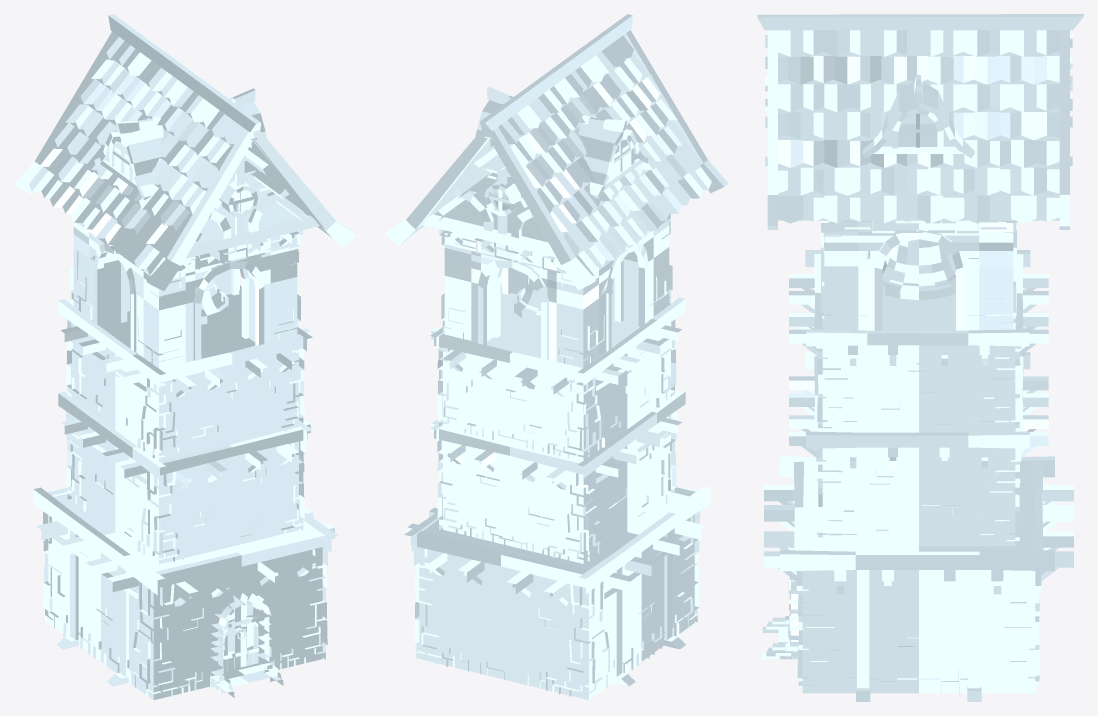
The model's file is tower.glb.
3 renders of one model, left to right at view 1: azimuth 30°, elevation 25°; view 2: azimuth 150°, elevation 25°; view 3: azimuth 270°, elevation 25°, orthographic. The views are drawn at different scales.
Visible parts, largest first — view 1: Bell_Tower; view 2: Bell_Tower; view 3: Bell_Tower.
Part boxes in pixels (x1,y1,x2,y2): Bell_Tower: (14,14,356,700); Bell_Tower: (385,14,728,700); Bell_Tower: (757,14,1083,701).
Bounding box in the file's own units: 194 × 476 × 223.
